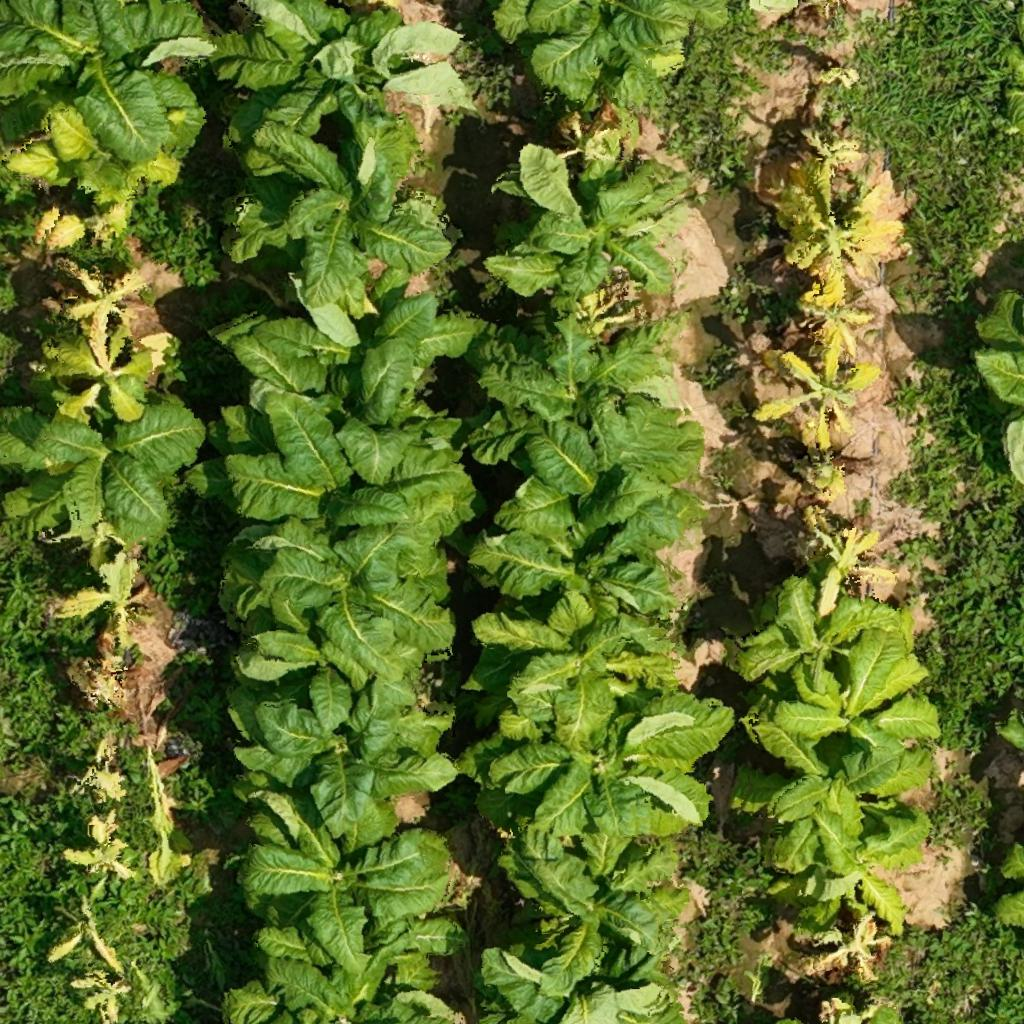Adult: (777, 153, 906, 306), (756, 330, 882, 458), (45, 550, 160, 655), (800, 910, 906, 988), (50, 258, 146, 332), (811, 516, 888, 606), (42, 908, 142, 966), (60, 966, 143, 1022), (65, 820, 138, 882)
Larvae: (7, 108, 202, 212), (35, 332, 159, 422)
missing: (214, 133, 450, 306), (226, 812, 472, 962), (462, 693, 714, 837), (200, 534, 458, 674), (476, 146, 695, 308), (208, 684, 454, 824), (210, 1, 458, 138), (218, 412, 480, 538), (216, 288, 480, 412), (0, 1, 212, 144), (0, 404, 204, 546), (478, 310, 672, 458), (476, 2, 720, 112), (484, 836, 694, 950), (458, 589, 688, 693), (732, 716, 944, 823), (474, 435, 700, 529), (755, 815, 928, 935), (468, 512, 688, 604), (720, 586, 910, 692), (202, 955, 475, 1023), (478, 950, 708, 1022), (756, 658, 940, 736)
